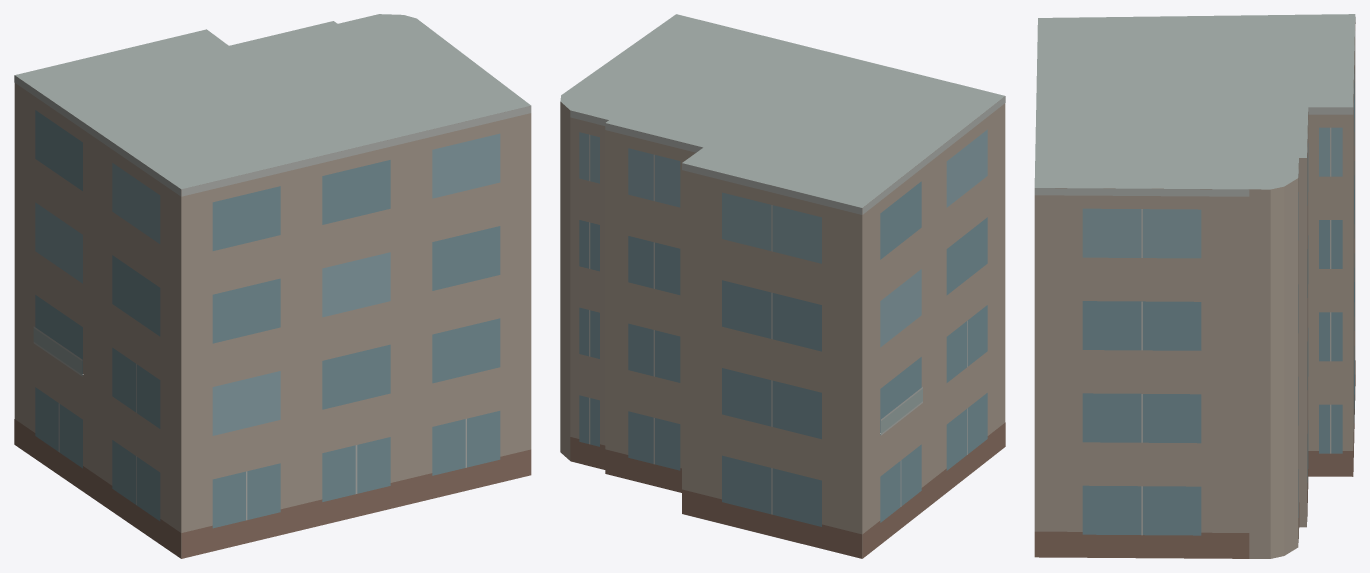
Rendered from survey-upis-32815135.glb.
3 renders of one model, left to right at view 1: azimuth 30°, elevation 25°; view 2: azimuth 150°, elevation 25°; view 3: azimuth 270°, elevation 25°, orthographic. The views are drawn at different scales.
Parts seen in each view (by area): view 1: survey-upis-32815135.tmp; view 2: survey-upis-32815135.tmp; view 3: survey-upis-32815135.tmp.
Part boxes in pixels (bbox=[...]): survey-upis-32815135.tmp: bbox=[14, 14, 531, 558]; survey-upis-32815135.tmp: bbox=[560, 14, 1005, 558]; survey-upis-32815135.tmp: bbox=[1034, 14, 1355, 558].
Bounding box in the file's own units: 12.43 × 12.2 × 9.61.
